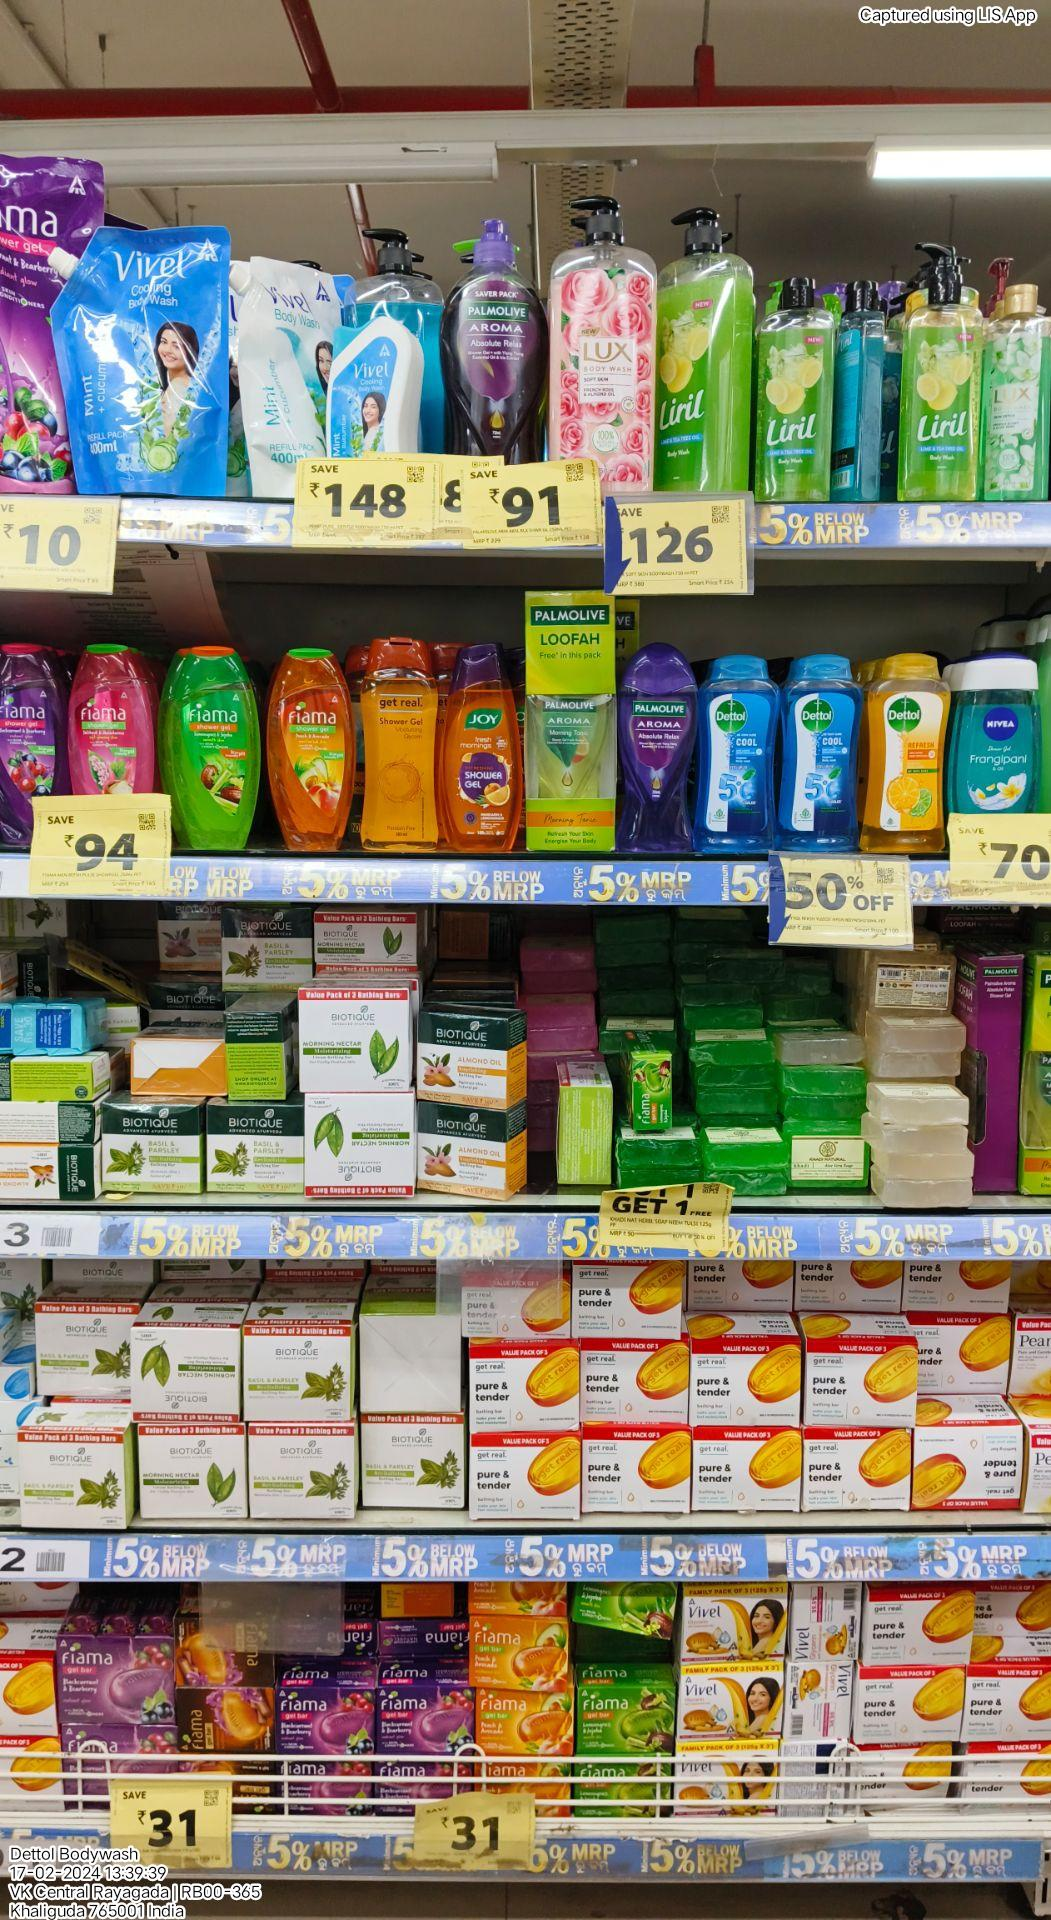Dettol_Bodywash_Cool: (699, 652, 770, 859), (779, 653, 854, 845)
Dettol_Bodywash_Refresh: (871, 659, 944, 860)
Fiama_Shower_Gel_Lemongrass_and_Jojoba_250ML: (177, 644, 255, 850)
Fiama_Shower_Gel_Patchouli_and_Macadamia_250ML: (69, 644, 151, 793)
Fiama_Shower_Gel_Peach_and_Avocado_250ML: (271, 642, 351, 851)
Get_Real_Shower_Gel_Moisturising_Glycerin_300ML: (360, 634, 439, 854)
Joy_Shower_Gel_Mandarin_and_Lemongrass_250ML: (441, 644, 518, 850)
Liril_Lime_and_Tea_Tree_Oil_Body_Wash_250ML: (753, 278, 831, 501)
Lux_Body_Wash_Skin_Detox_Freesia_Scent_and_Alove_Vera_245ML: (982, 282, 1050, 499)
Nivea_Shower_Gel_Frangipani_and_Oil_250ML: (957, 653, 1032, 806)
Palmolive_Aroma_Relax_250ML: (623, 646, 695, 854)
